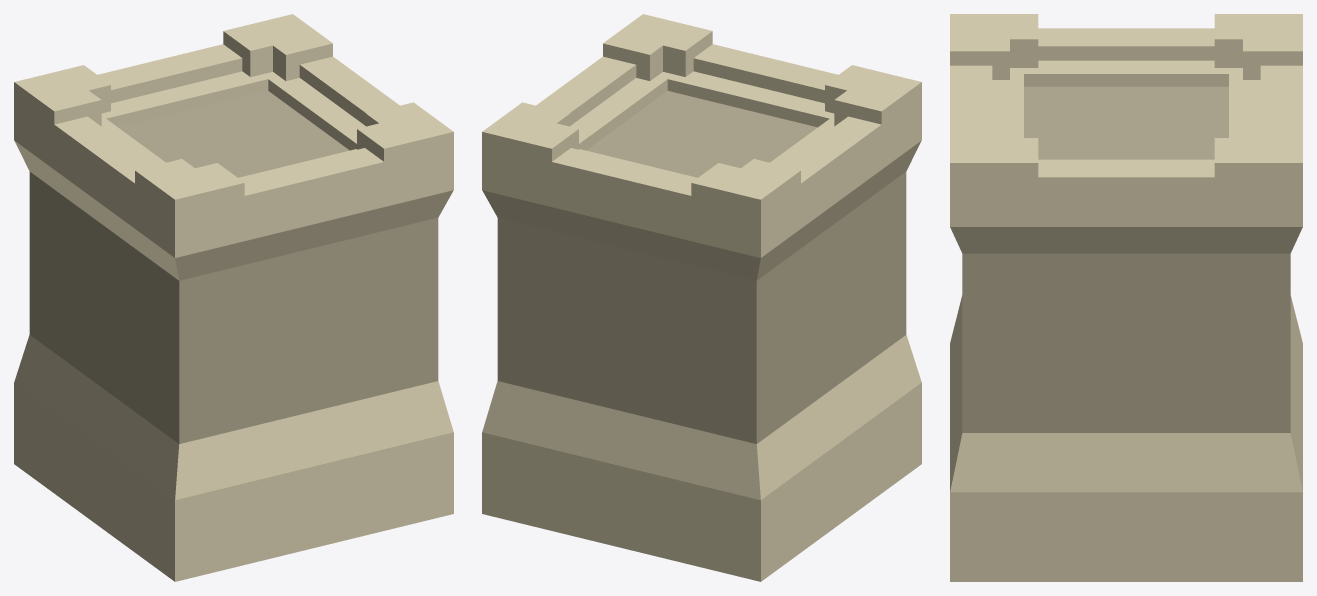
The model's file is towerSquare.fbx.
The picture shows the model from 3 angles, left to right: view 1: azimuth 30°, elevation 25°; view 2: azimuth 150°, elevation 25°; view 3: azimuth 270°, elevation 25°; orthographic projection. The views are drawn at different scales.
Visible parts, largest first — view 1: towerSquare; view 2: towerSquare; view 3: towerSquare.
Boxes of the visible parts, x1,y1,x2,y2 form: towerSquare: (14, 14, 453, 581); towerSquare: (482, 14, 921, 581); towerSquare: (950, 14, 1302, 581).
Bounding box in the file's own units: 10 × 13.1 × 10.
